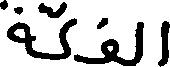X: (0, 0, 30, 60), (60, 0, 73, 63), (101, 13, 114, 66), (162, 0, 169, 66), (136, 0, 141, 66)
